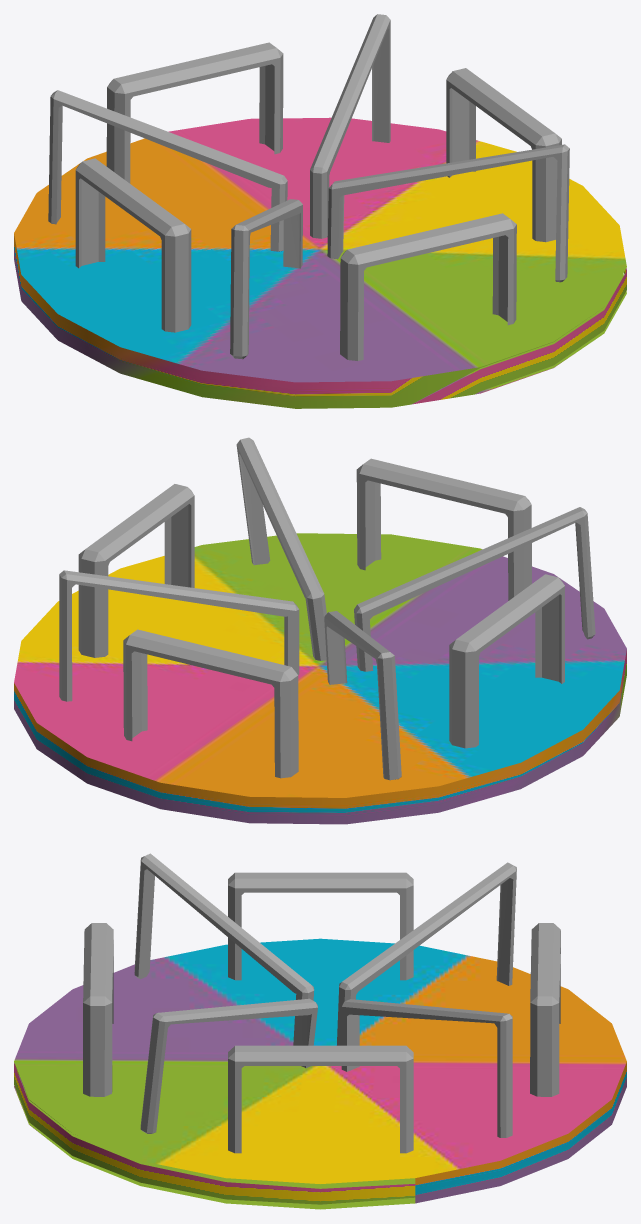
File: spinny2.fbx
3 views of the same model, one above another, from view 1: azimuth 30°, elevation 25°; view 2: azimuth 150°, elevation 25°; view 3: azimuth 270°, elevation 25° (orthographic). The views are drawn at different scales.
Visible parts, largest first — view 1: pCylinder9, pasted__pCube52, pasted__pasted__pCube52, pasted__pasted__pCube53, pCube52, pCube55, pasted__pCube57, pCube57, pCube56; view 2: pCylinder9, pasted__pCube52, pasted__pasted__pCube53, pCube52, pasted__pasted__pCube52, pCube57, pCube56, pCube55, pasted__pCube57; view 3: pCylinder9, pCube52, pasted__pCube52, pasted__pCube57, pCube56, pasted__pasted__pCube52, pasted__pasted__pCube53, pCube57, pCube55.
Boxes of the visible parts, bbox=[...] form: pCylinder9: bbox=[14, 117, 626, 408]; pasted__pCube52: bbox=[75, 158, 191, 332]; pasted__pasted__pCube52: bbox=[340, 213, 516, 360]; pasted__pasted__pCube53: bbox=[106, 42, 283, 183]; pCube52: bbox=[446, 68, 561, 242]; pCube55: bbox=[310, 14, 390, 238]; pasted__pCube57: bbox=[48, 90, 287, 251]; pCube57: bbox=[327, 144, 569, 282]; pCube56: bbox=[230, 199, 302, 359]; pCylinder9: bbox=[14, 533, 626, 824]; pasted__pCube52: bbox=[449, 574, 564, 748]; pasted__pasted__pCube53: bbox=[123, 629, 298, 778]; pCube52: bbox=[78, 484, 194, 657]; pasted__pasted__pCube52: bbox=[356, 458, 531, 600]; pCube57: bbox=[236, 437, 326, 660]; pCube56: bbox=[354, 507, 595, 671]; pCube55: bbox=[59, 570, 299, 701]; pasted__pCube57: bbox=[324, 611, 401, 780]; pCylinder9: bbox=[14, 938, 626, 1209]; pCube52: bbox=[228, 1045, 413, 1153]; pasted__pCube52: bbox=[228, 872, 413, 980]; pasted__pCube57: bbox=[337, 862, 516, 1045]; pCube56: bbox=[134, 853, 314, 1045]; pasted__pasted__pCube52: bbox=[83, 923, 113, 1096]; pasted__pasted__pCube53: bbox=[530, 923, 560, 1096]; pCube57: bbox=[140, 998, 317, 1133]; pCube55: bbox=[341, 999, 512, 1137].
Size of the model in its own units: 8.47 by 2.45 by 8.94.
